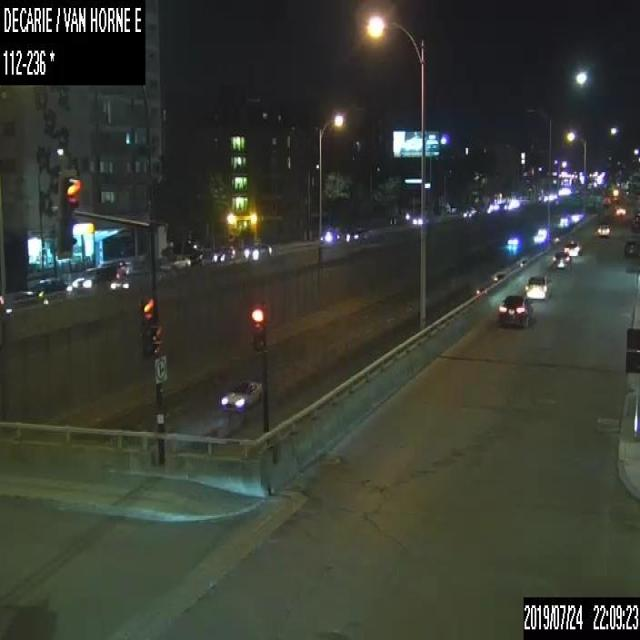vehicle: (218, 379, 262, 413), (495, 293, 532, 327), (71, 266, 115, 290), (1, 296, 42, 314), (27, 276, 65, 293), (524, 275, 550, 298), (242, 241, 271, 260), (181, 238, 202, 264), (212, 244, 236, 263), (550, 250, 571, 269), (109, 272, 131, 289), (164, 253, 190, 267), (345, 226, 363, 243), (562, 239, 581, 254), (320, 229, 339, 244), (624, 239, 639, 256), (596, 221, 610, 236), (412, 212, 428, 224), (631, 210, 639, 230), (463, 206, 476, 217), (615, 204, 626, 216), (506, 234, 518, 245), (0, 295, 2, 301)
